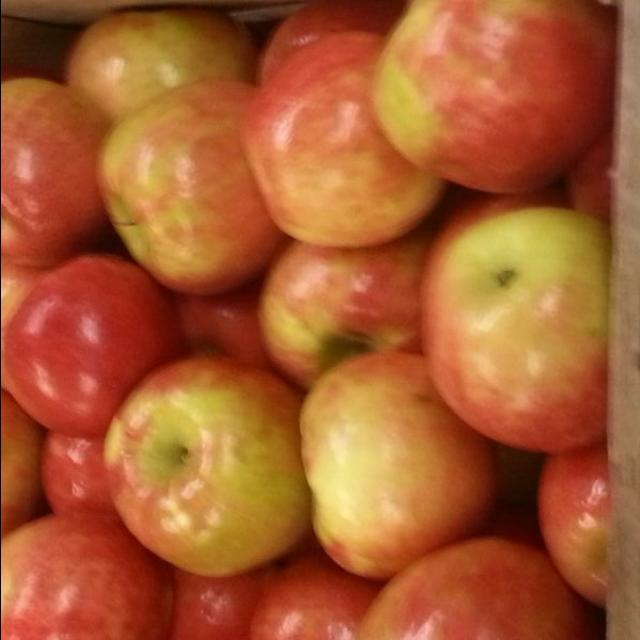Apples: (374, 0, 618, 194), (105, 356, 305, 574), (426, 213, 604, 444), (244, 35, 431, 241), (98, 79, 276, 291), (1, 258, 167, 434), (358, 540, 584, 640), (256, 240, 427, 372), (0, 520, 164, 640), (0, 79, 94, 265)
